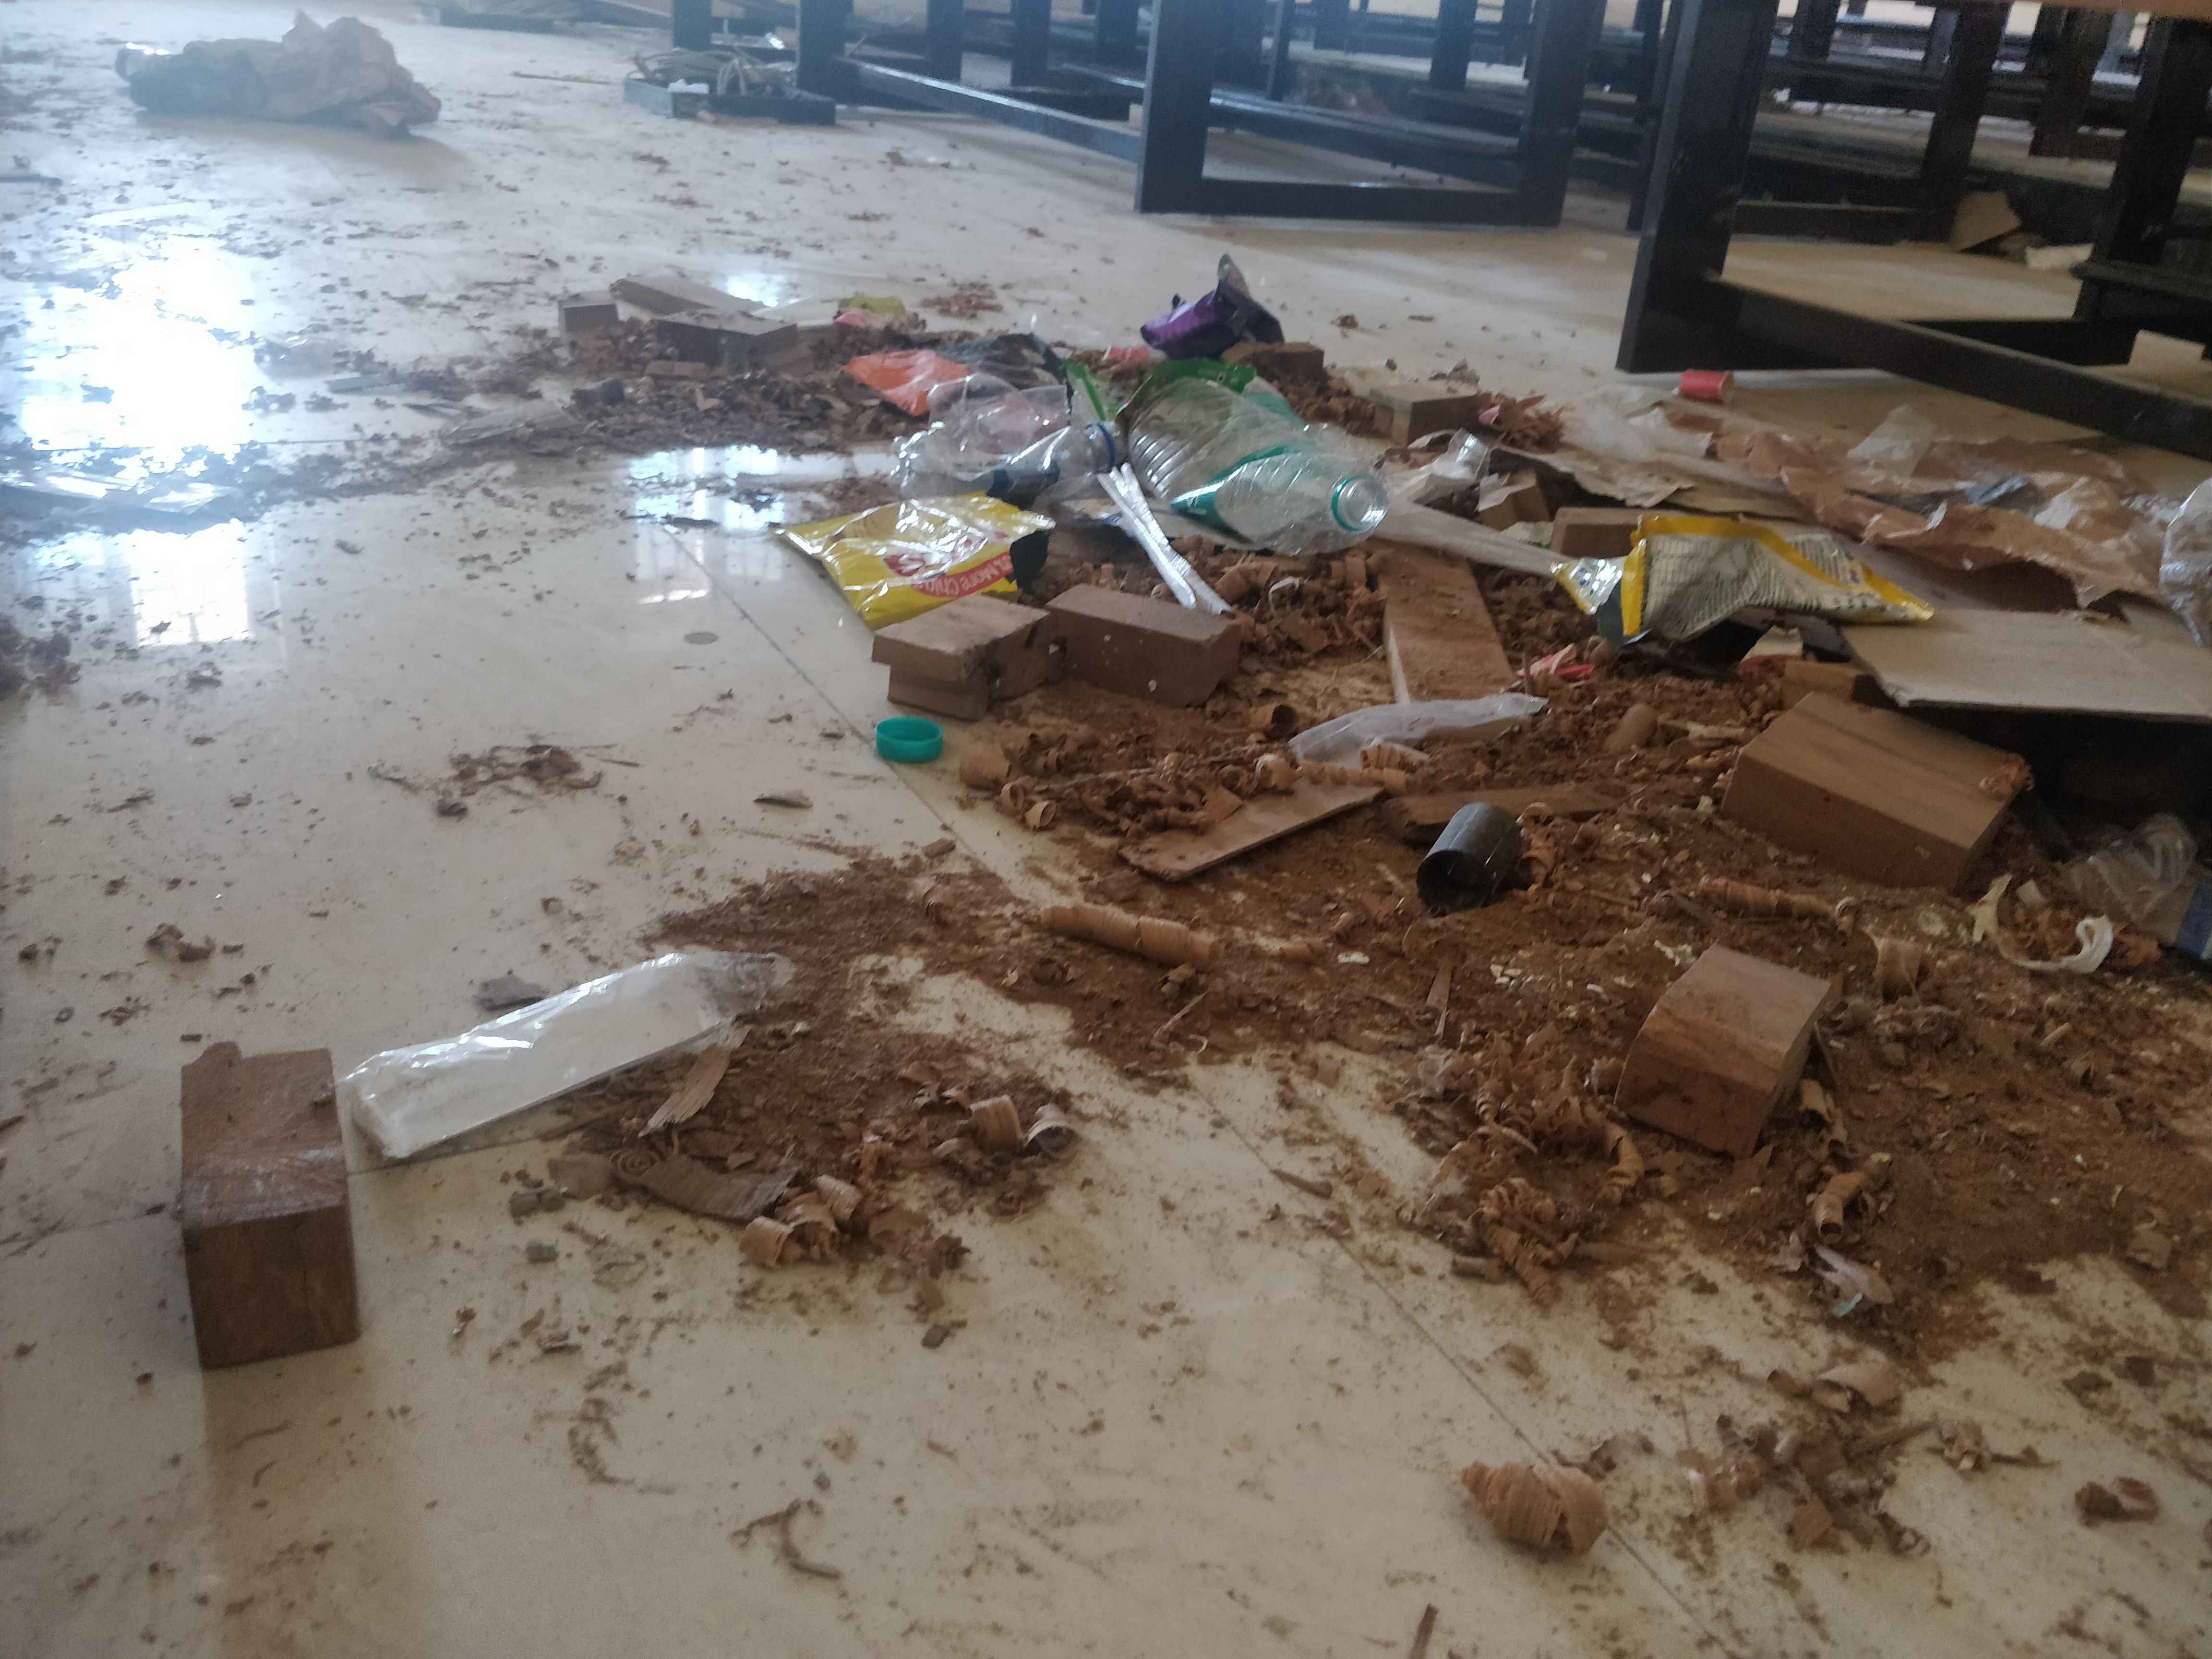Lays: (881, 514, 1019, 589)
